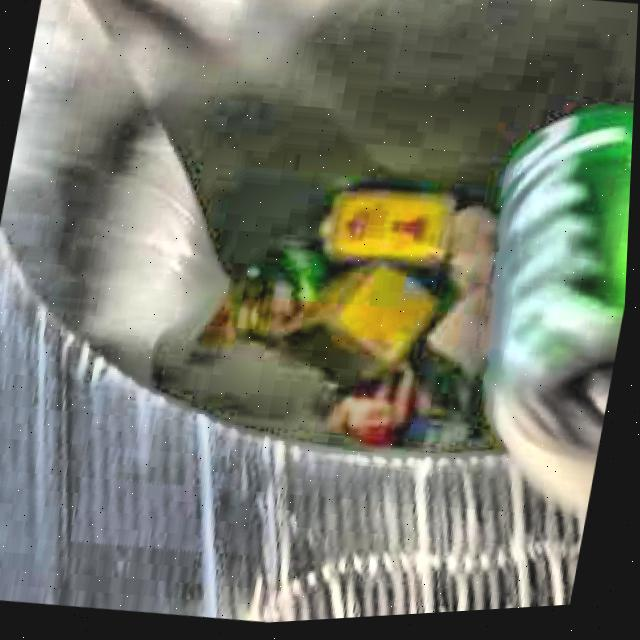metal: (490, 117, 635, 516)
